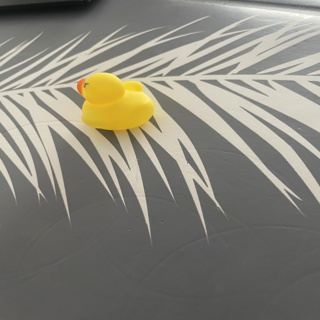duck_regular: (75, 75, 154, 131)
